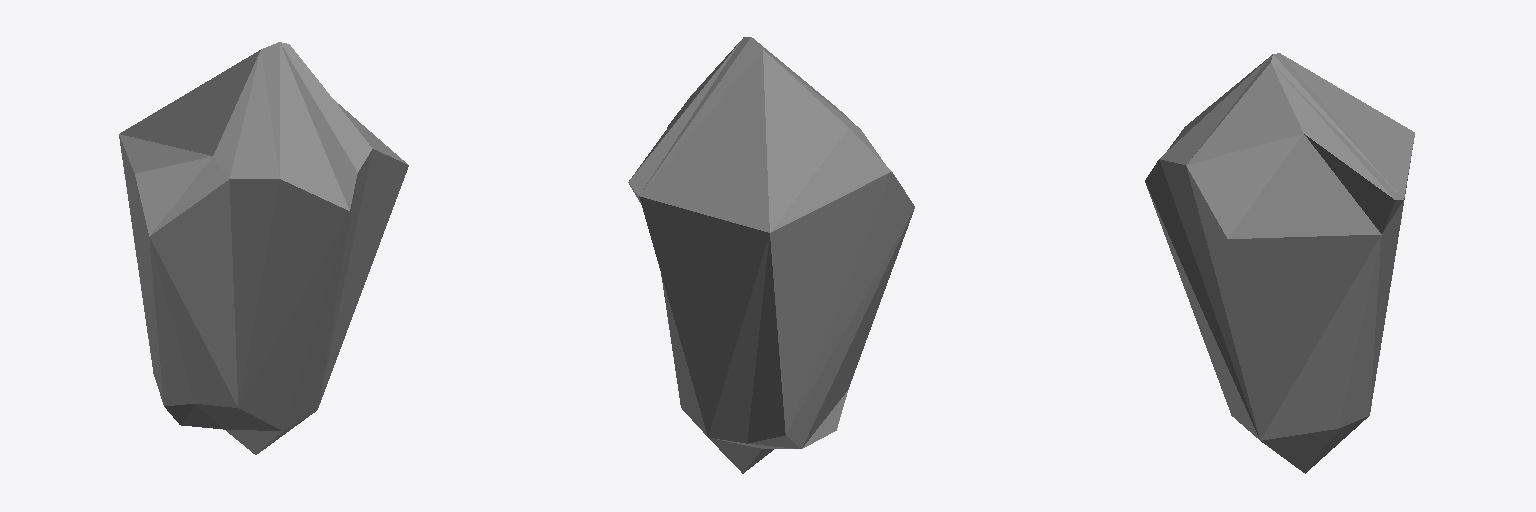
3 views of the same model, side by side, from view 1: azimuth 30°, elevation 25°; view 2: azimuth 150°, elevation 25°; view 3: azimuth 270°, elevation 25° (orthographic).
Parts seen in each view (by area): view 1: Crystal_c2; view 2: Crystal_c2; view 3: Crystal_c2.
Boxes of the visible parts, x1,y1,x2,y2 form: Crystal_c2: [119, 42, 408, 454]; Crystal_c2: [628, 37, 914, 473]; Crystal_c2: [1145, 53, 1414, 473].
Bounding box in the file's own units: 1.4 × 2.22 × 1.29.